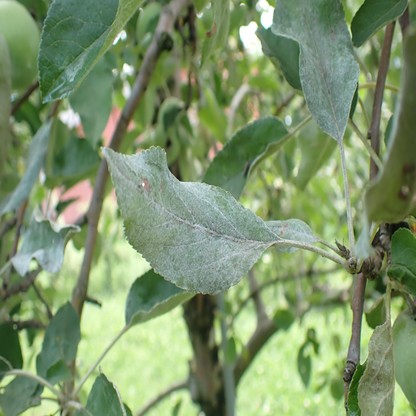powdery_mildew: (99, 147, 318, 296), (271, 0, 358, 145), (40, 1, 117, 103), (347, 325, 397, 416)
